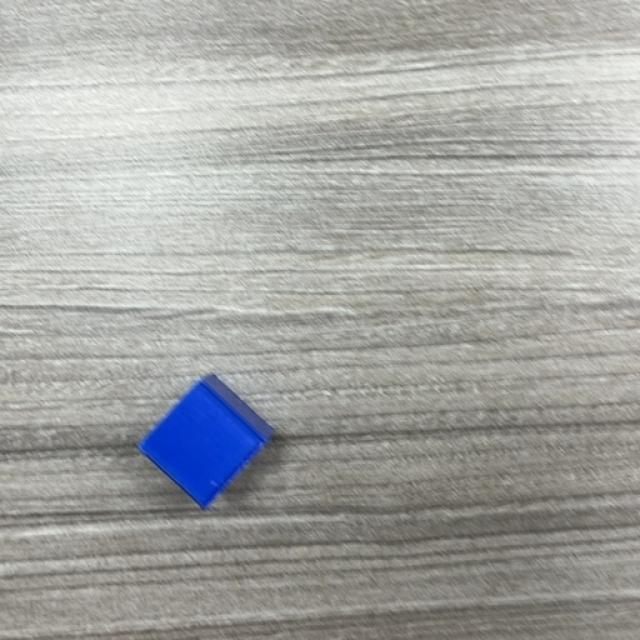Azul: (138, 374, 275, 511)
